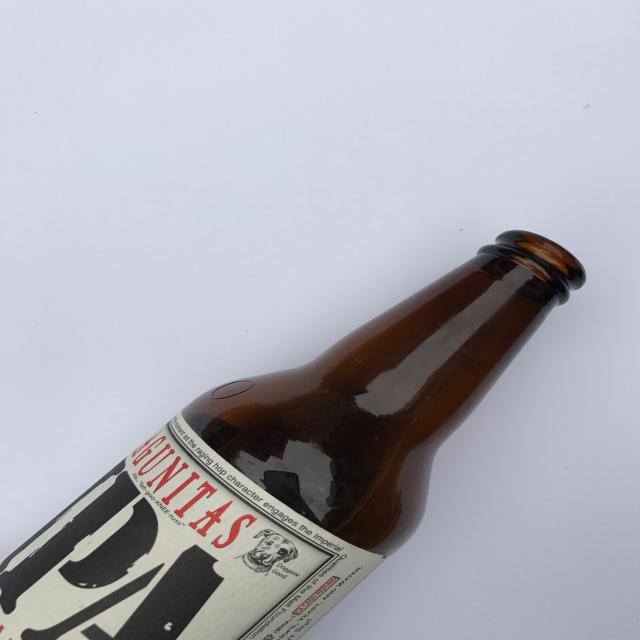glass: (0, 229, 587, 640)
